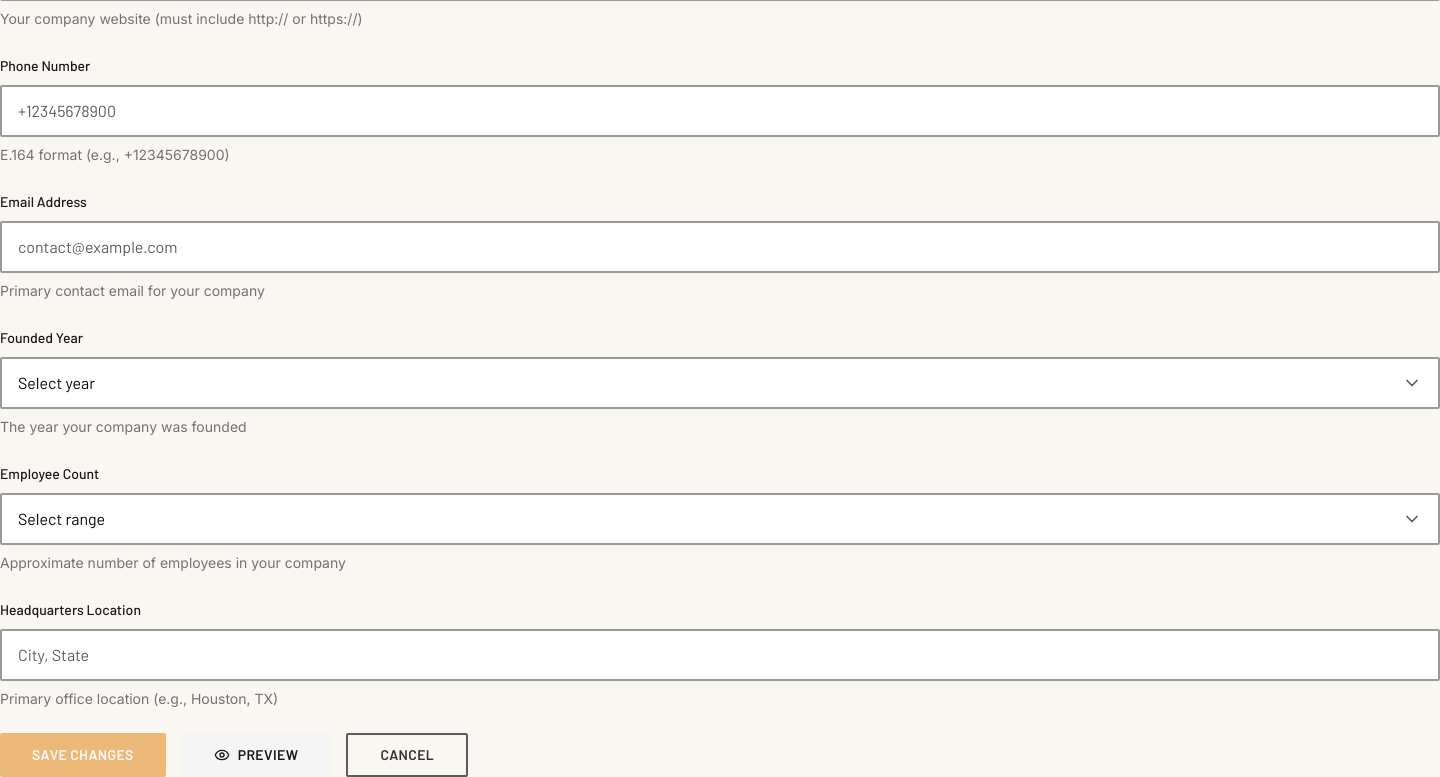
ProfileEditForm › Preview Functionality › should open preview modal when Preview button is clicked
The image size is (1440, 777).
(page scrolled)
Click the button "Preview" at [256, 755], box [182,733,330,776]
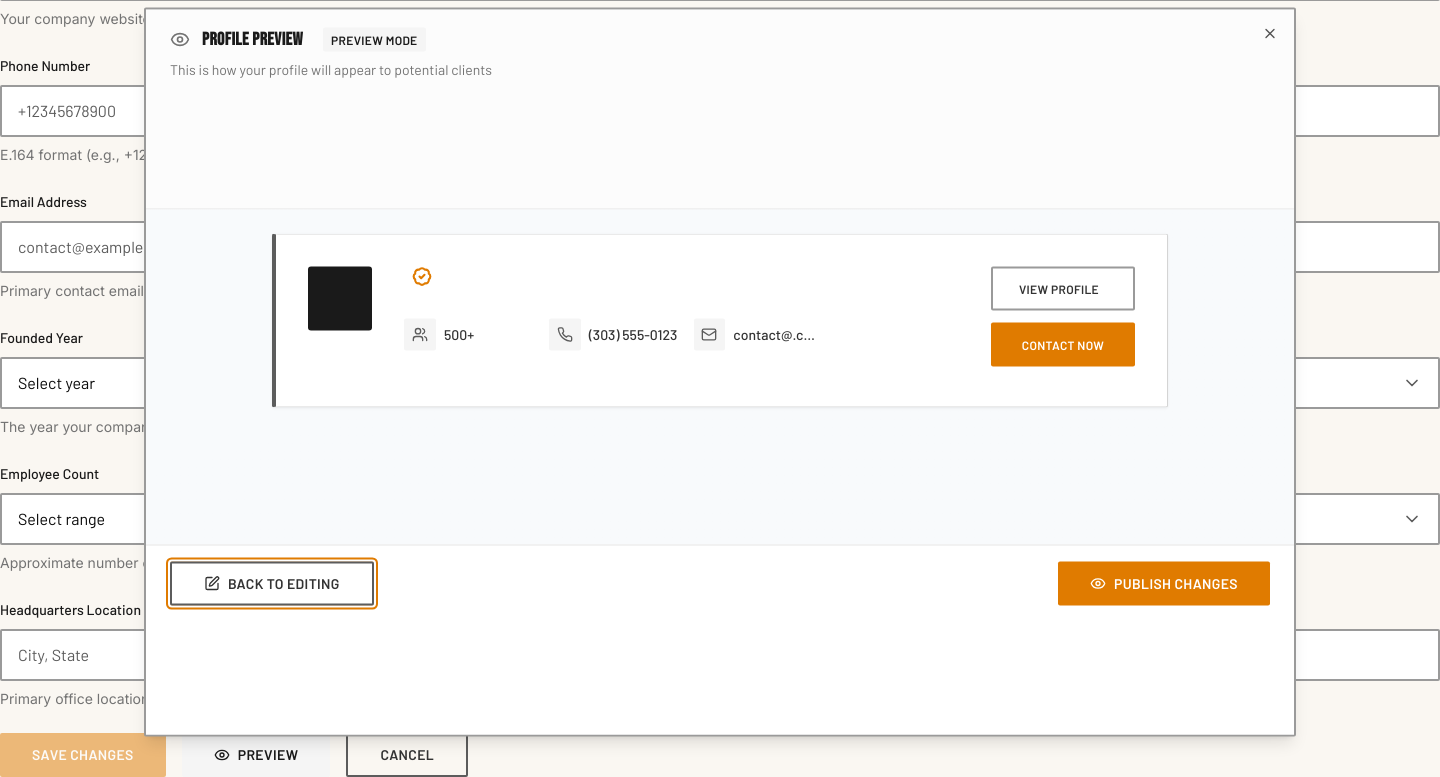
Expected: the heading "Profile Preview" is shown, [202,26,303,54]
